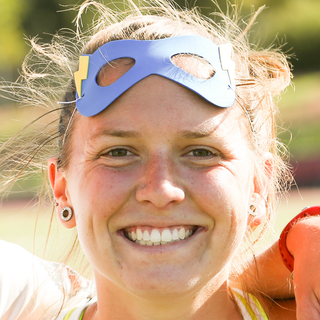eye: (169, 134, 237, 175), (87, 138, 147, 169)
